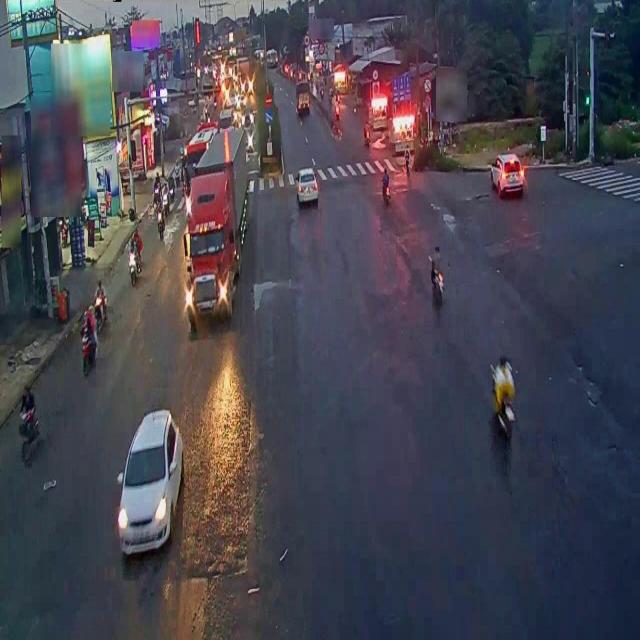bicycle: (17, 384, 42, 465)
car: (117, 405, 183, 561), (298, 164, 318, 206)
motorcycle: (488, 345, 518, 442), (79, 306, 98, 378), (427, 243, 448, 306)
truck: (188, 129, 255, 322)
